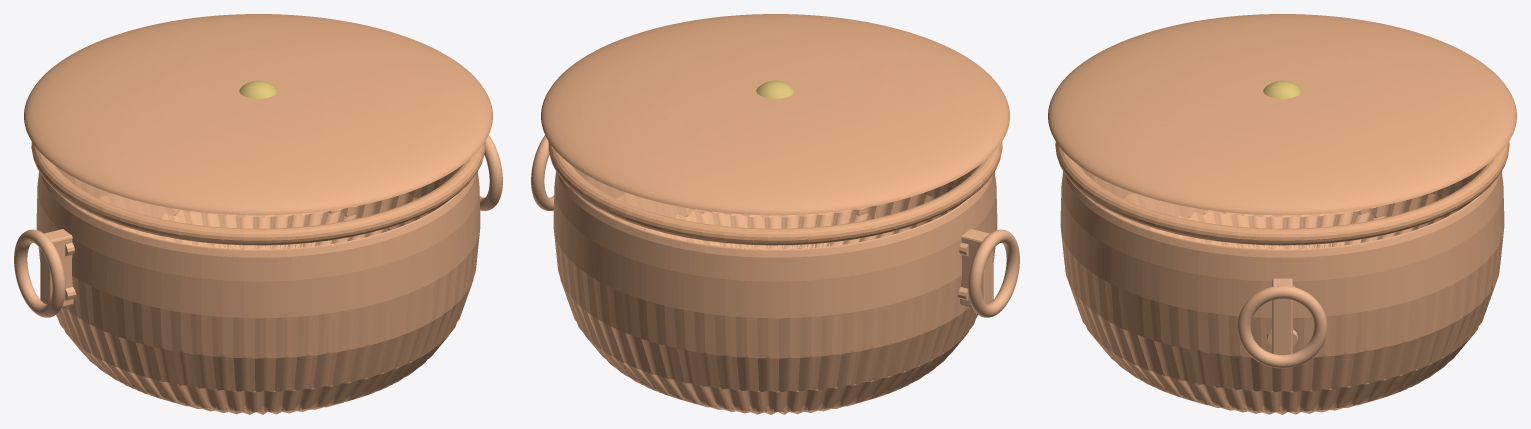
The picture shows the model from 3 angles, left to right: view 1: azimuth 30°, elevation 25°; view 2: azimuth 150°, elevation 25°; view 3: azimuth 270°, elevation 25°; orthographic projection.
Parts seen in each view (by area): view 1: object 1, object 10, Pot_Handle_2, Pot_Handle_Connector_2, Pot_Handle_1; view 2: object 1, object 10, Pot_Handle_2, Pot_Handle_Connector_2, Pot_Handle_1; view 3: object 1, object 10, Pot_Handle_1, Pot_Handle_Connector_1.
Boxes of the visible parts, x1=… form: object 1: x1=31, y1=141, x2=485, y2=414; object 10: x1=24, y1=14, x2=492, y2=217; Pot_Handle_2: x1=14, y1=229, x2=65, y2=317; Pot_Handle_Connector_2: x1=40, y1=229, x2=73, y2=307; Pot_Handle_1: x1=479, y1=135, x2=502, y2=210; object 1: x1=548, y1=141, x2=1002, y2=414; object 10: x1=541, y1=14, x2=1009, y2=217; Pot_Handle_2: x1=968, y1=229, x2=1019, y2=317; Pot_Handle_Connector_2: x1=960, y1=229, x2=993, y2=307; Pot_Handle_1: x1=531, y1=135, x2=554, y2=210; object 1: x1=1055, y1=142, x2=1509, y2=414; object 10: x1=1048, y1=14, x2=1516, y2=217; Pot_Handle_1: x1=1237, y1=285, x2=1327, y2=368; Pot_Handle_Connector_1: x1=1272, y1=278, x2=1292, y2=354.
Size of the model in its own units: 0.7391 by 0.478 by 0.6689.
